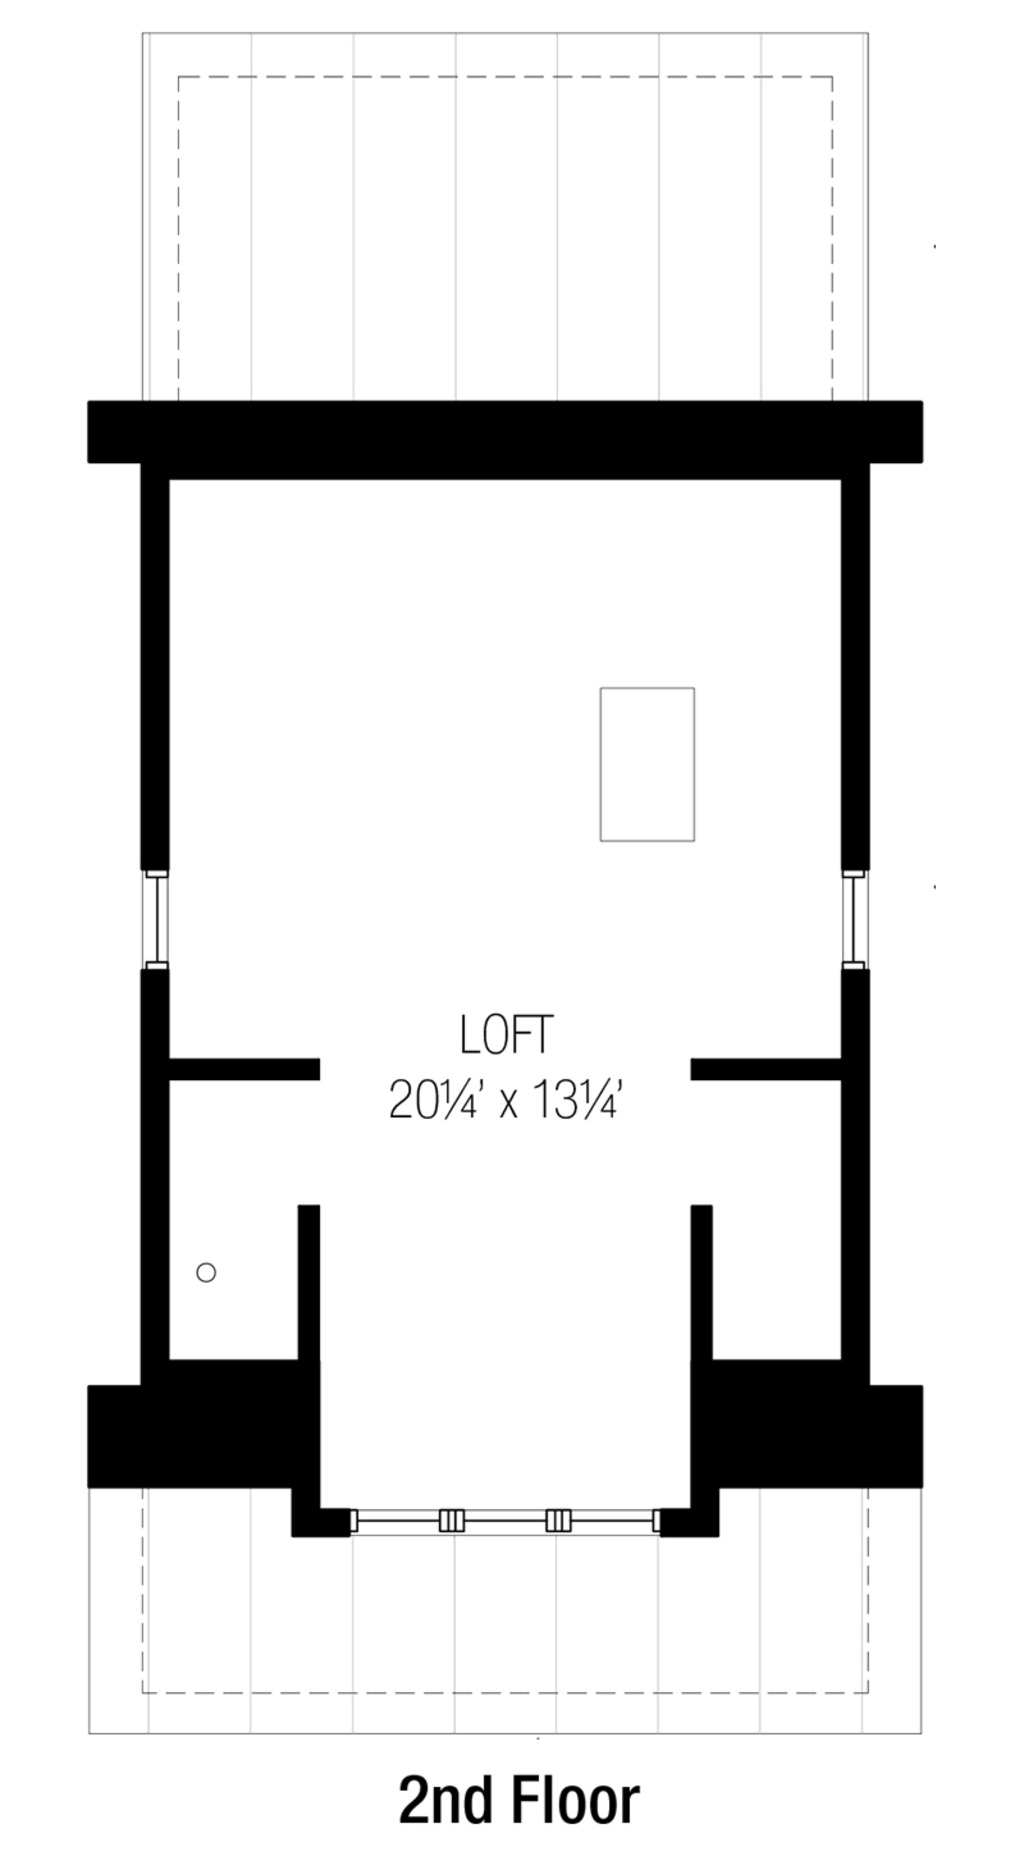window: (342, 1499, 656, 1545), (130, 865, 182, 971), (834, 865, 868, 982)
